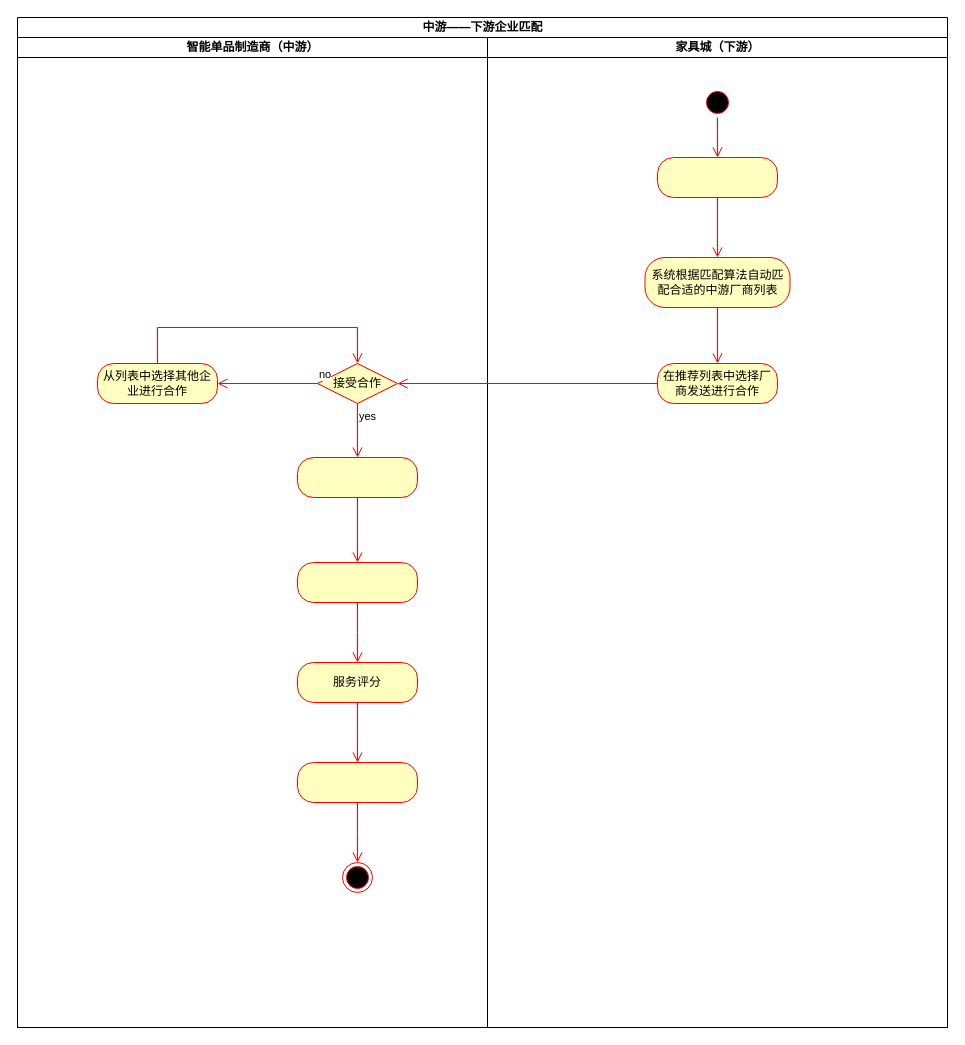
The diagram is 965 pixels wide and 1045 high, and some of its shapes have lost their labels. The shapes that lost their labels are listed below. From the top down, each one's box as (x1, y1, x2, y2) in pixels, then its label:
(656, 156, 778, 198): 发布产品数量需求
(296, 456, 418, 498): 商讨交易细节，签署协议
(296, 562, 418, 602): 按时交货，验收
(296, 762, 418, 802): 加入合作企业列表，便于下次合作
